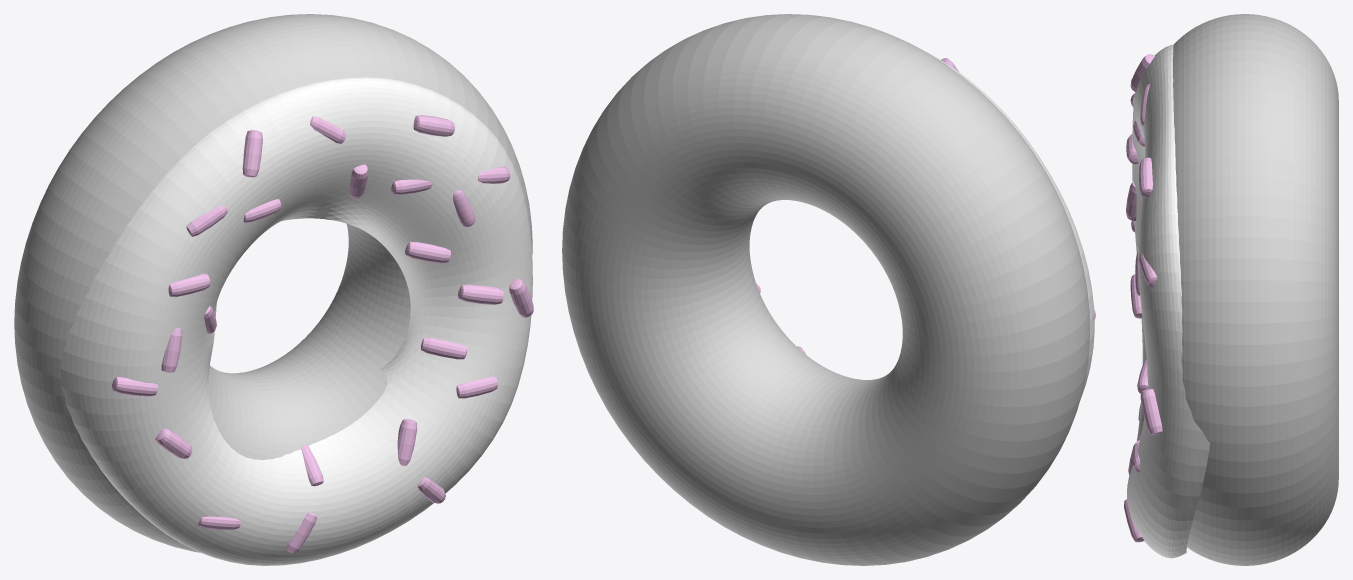
File: 4747d3ae-fa0e-4ac1-83b5-5e922e668bdf.glb
3 views of the same model, side by side, from view 1: azimuth 30°, elevation 25°; view 2: azimuth 150°, elevation 25°; view 3: azimuth 270°, elevation 25° (orthographic). The views are drawn at different scales.
Parts seen in each view (by area): view 1: mesh02, mesh01, mesh15, mesh11, mesh25, mesh17, mesh24, mesh22, mesh06, mesh18, mesh03, mesh26 (+2 smaller); view 2: mesh01, mesh02; view 3: mesh01, mesh02, mesh26, mesh17, mesh14, mesh15, mesh06, mesh19, mesh05.
Boxes of the visible parts, <box> form: mesh02: <box>60,77,532,565</box>; mesh01: <box>14,14,532,552</box>; mesh15: <box>242,130,262,177</box>; mesh11: <box>458,284,503,304</box>; mesh25: <box>405,242,450,263</box>; mesh17: <box>413,115,455,136</box>; mesh24: <box>397,419,417,465</box>; mesh22: <box>421,338,466,359</box>; mesh06: <box>155,428,192,458</box>; mesh18: <box>112,377,157,396</box>; mesh03: <box>168,273,210,297</box>; mesh26: <box>509,278,533,317</box>; mesh01: <box>562,14,1089,565</box>; mesh02: <box>930,54,1094,398</box>; mesh01: <box>1173,14,1338,565</box>; mesh02: <box>1127,44,1209,558</box>; mesh26: <box>1140,388,1162,434</box>; mesh17: <box>1139,157,1152,198</box>; mesh14: <box>1126,181,1136,220</box>; mesh15: <box>1130,54,1154,91</box>; mesh06: <box>1130,274,1142,318</box>; mesh19: <box>1139,253,1157,287</box>; mesh05: <box>1124,499,1144,542</box>.
Size of the model in its own units: 171 by 171 by 66.36.
